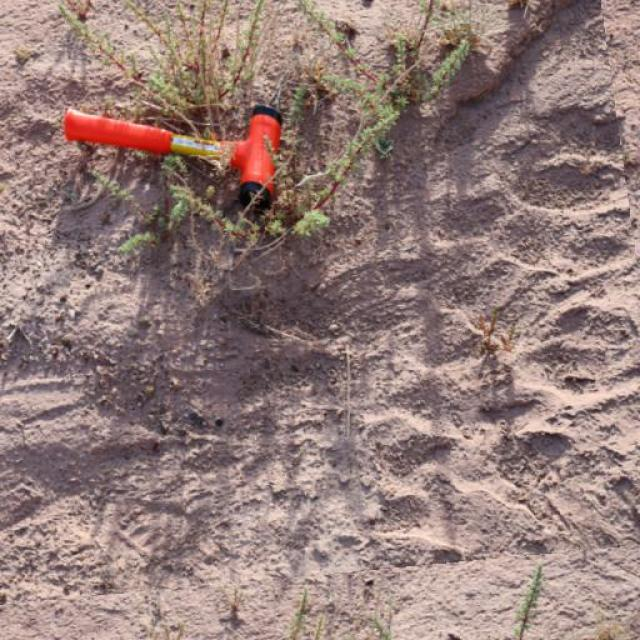mallet: (61, 101, 282, 211)
